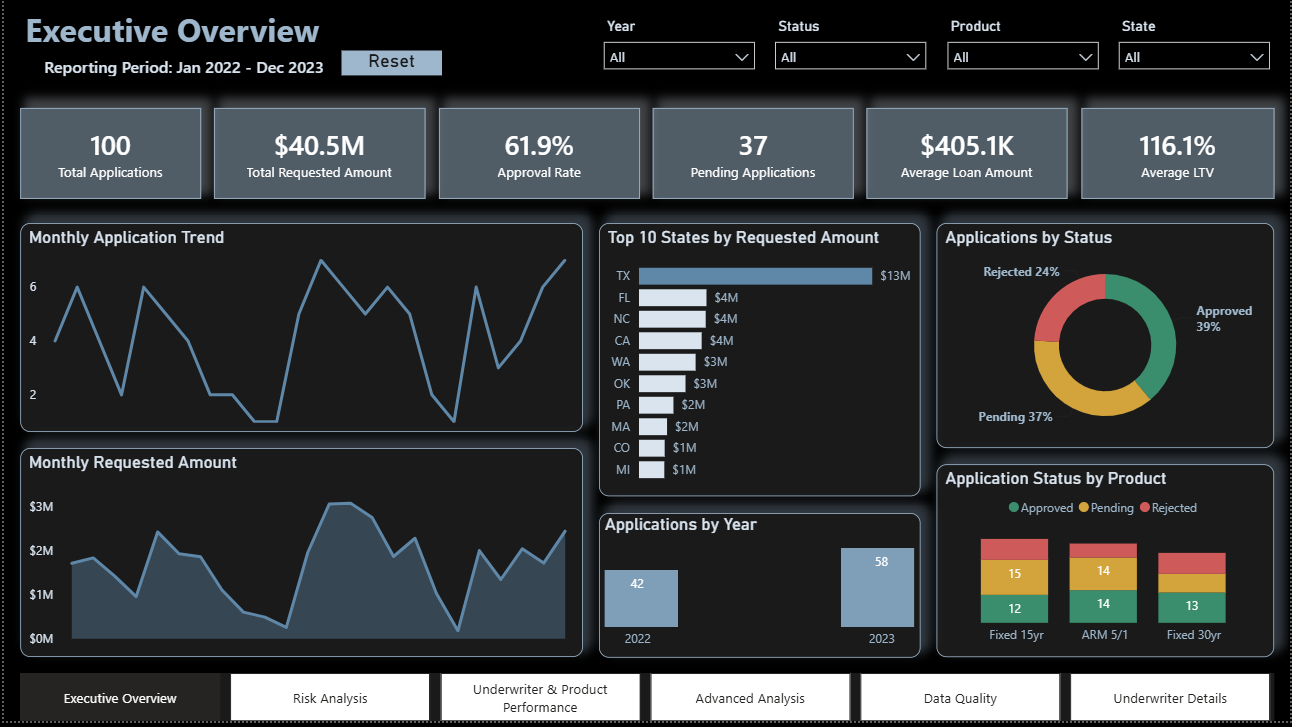

What the dashboard file says about the page in this screenshot:
{"tool":"powerbi","page":{"name":"Executive Overview","canvas":[1280,720],"ordinal":0},"visuals":[{"type":"cardVisual","fields":{"Data":["_Measures.Total Applications"]},"box":[16,110,180,90],"z":0},{"type":"cardVisual","fields":{"Data":["_Measures.Total Requested Amount"]},"box":[209.2,110,210,90],"z":1000},{"type":"cardVisual","fields":{"Data":["_Measures.Approval Rate"]},"box":[432.4,110,200,90],"z":2000},{"type":"cardVisual","fields":{"Data":["_Measures.Pending Applications"]},"box":[645.6,110,200,90],"z":3000},{"type":"cardVisual","fields":{"Data":["_Measures.Average Loan Amount"]},"box":[858.8,110,200,90],"z":4000},{"type":"cardVisual","fields":{"Data":["_Measures.Average LTV"]},"box":[1072,110,192,90],"z":5000},{"type":"textbox","box":[16,5,336,64],"z":6000},{"type":"lineChart","title":"Monthly Application Trend","fields":{"Category":["DimDate.Year-Month"],"Y":["_Measures.Total Applications"]},"box":[16,224,560,208],"z":7000},{"type":"areaChart","title":"Monthly Requested Amount","fields":{"Category":["DimDate.Year-Month"],"Y":["_Measures.Total Requested Amount"]},"box":[16,448,560,208],"z":8000},{"type":"donutChart","title":"Applications by Status","fields":{"Category":["FactApplications.Status"],"Y":["_Measures.Total Applications"]},"box":[928,224,336,224],"z":9000},{"type":"columnChart","title":"Application Status by Product","fields":{"Category":["DimProducts.ProductName"],"Series":["FactApplications.Status"],"Y":["_Measures.Total Applications"]},"box":[928,464,336,192],"z":10000},{"type":"clusteredBarChart","title":"Top 10 States by Requested Amount","fields":{"Category":["DimProperties.State"],"Y":["_Measures.Total Requested Amount"]},"box":[592,224,320,272],"z":11000},{"type":"clusteredColumnChart","title":"Applications by Year","fields":{"Category":["DimDate.Year"],"Y":["_Measures.Total Applications"]},"box":[592,512,320,144],"z":12000},{"type":"slicer","fields":{"Values":["DimDate.Year"]},"box":[592,15,160,80],"z":13000},{"type":"slicer","fields":{"Values":["FactApplications.Status"]},"box":[762.9,15,160,80],"z":14000},{"type":"slicer","fields":{"Values":["DimProducts.ProductName"]},"box":[933.7,15,160,80],"z":15000},{"type":"slicer","fields":{"Values":["DimProperties.State"]},"box":[1104.6,15,160,80],"z":16000},{"type":"cardVisual","fields":{"Data":["_Measures.Selected Period"]},"box":[16,40,400,55],"z":17000},{"type":"pageNavigator","box":[16,672,1248,48],"z":18000},{"type":"actionButton","title":"Reset","box":[336,52,100,25],"z":19000}]}

Visuals, with their boxes in screenshot pixels (x1, y1, x2, y2), scaled from the page's 1280x720 canvas onto the 1292x727 screenshot:
cardVisual - _Measures.Total Applications: left=16, top=111, right=198, bottom=202
cardVisual - _Measures.Total Requested Amount: left=211, top=111, right=423, bottom=202
cardVisual - _Measures.Approval Rate: left=436, top=111, right=638, bottom=202
cardVisual - _Measures.Pending Applications: left=652, top=111, right=854, bottom=202
cardVisual - _Measures.Average Loan Amount: left=867, top=111, right=1069, bottom=202
cardVisual - _Measures.Average LTV: left=1082, top=111, right=1276, bottom=202
textbox: left=16, top=5, right=355, bottom=70
"Monthly Application Trend" lineChart: left=16, top=226, right=581, bottom=436
"Monthly Requested Amount" areaChart: left=16, top=452, right=581, bottom=662
"Applications by Status" donutChart: left=937, top=226, right=1276, bottom=452
"Application Status by Product" columnChart: left=937, top=469, right=1276, bottom=662
"Top 10 States by Requested Amount" clusteredBarChart: left=598, top=226, right=921, bottom=501
"Applications by Year" clusteredColumnChart: left=598, top=517, right=921, bottom=662
slicer - DimDate.Year: left=598, top=15, right=759, bottom=96
slicer - FactApplications.Status: left=770, top=15, right=932, bottom=96
slicer - DimProducts.ProductName: left=942, top=15, right=1104, bottom=96
slicer - DimProperties.State: left=1115, top=15, right=1276, bottom=96
cardVisual - _Measures.Selected Period: left=16, top=40, right=420, bottom=96
pageNavigator: left=16, top=679, right=1276, bottom=726
"Reset" actionButton: left=339, top=53, right=440, bottom=78
